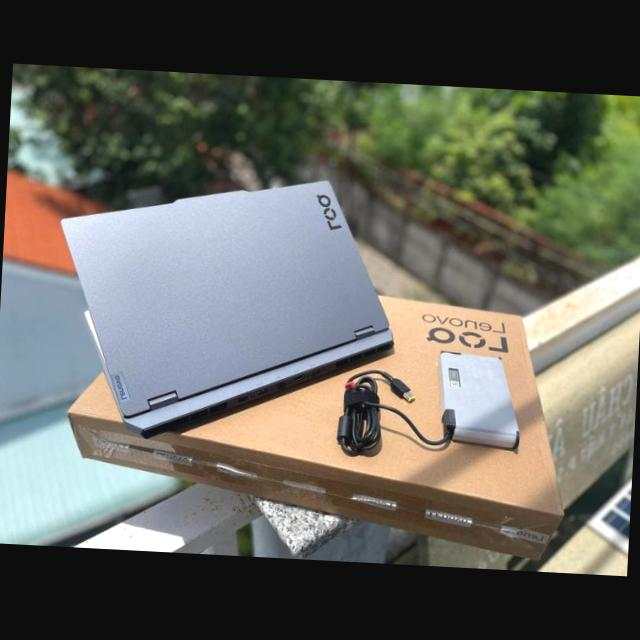laptop: (51, 148, 397, 438)
